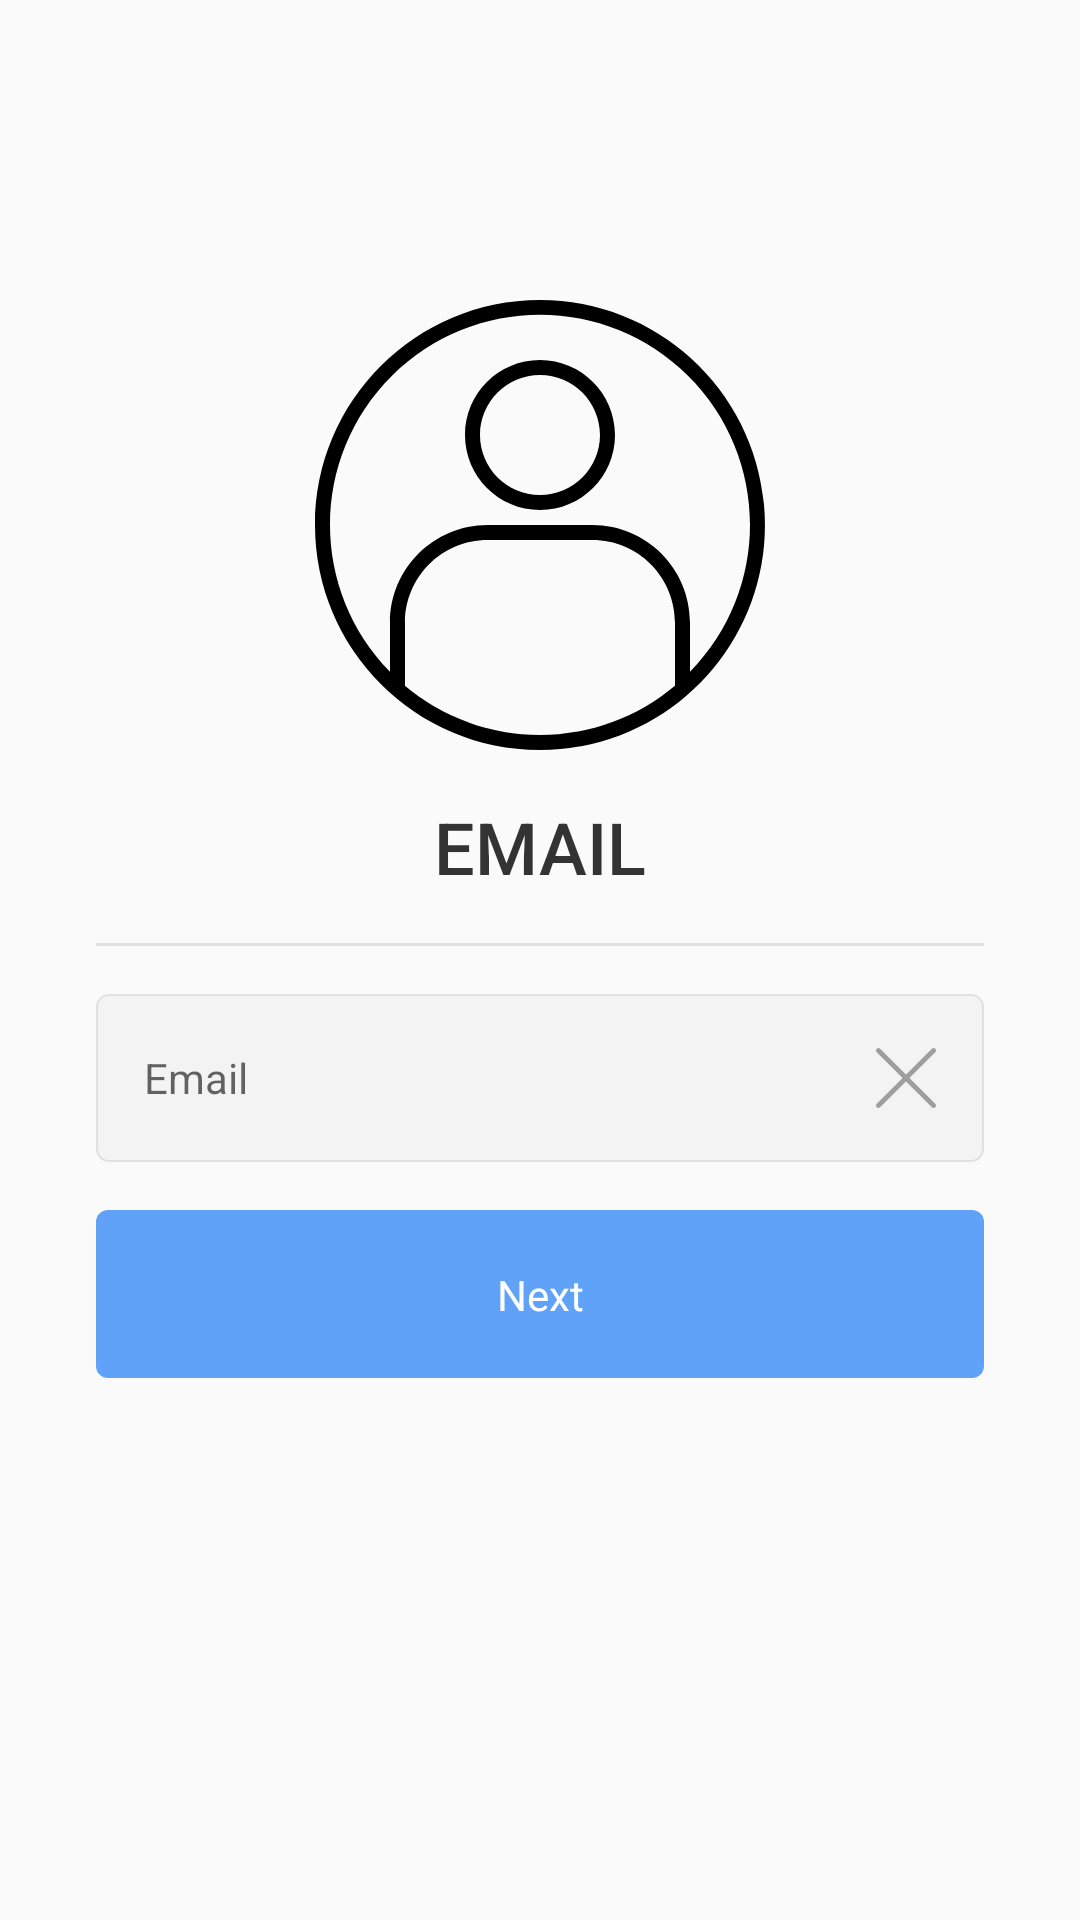

Icons on this 1080 × 1920 Android screen, each with its box as box(x1, y1, x2, y2):
delete: box(876, 1048, 936, 1108)
